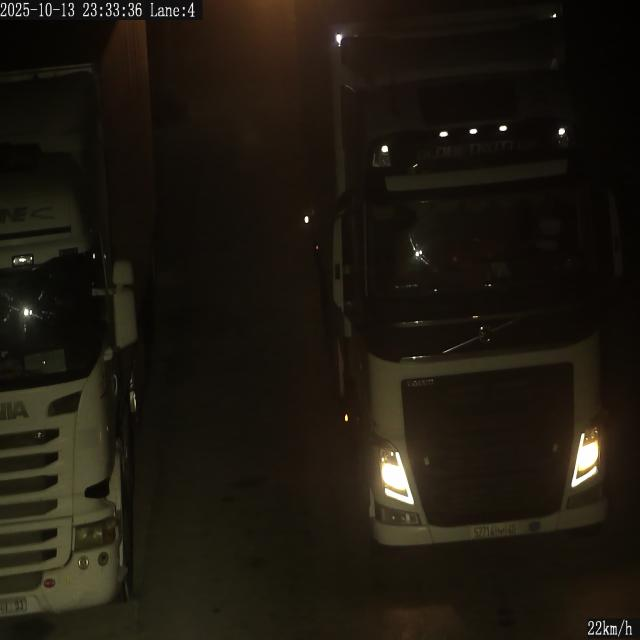BUS: (471, 523, 518, 539), (0, 598, 27, 615)
